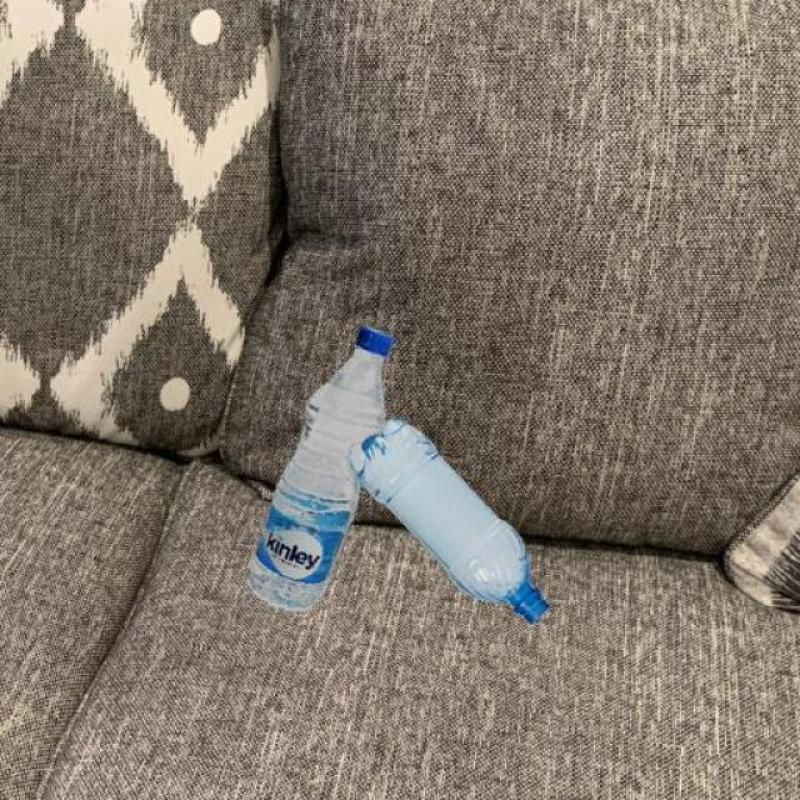botella: (347, 420, 551, 630), (246, 326, 393, 614)
